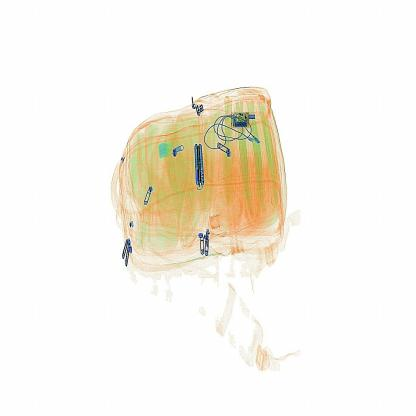scissors: (184, 141, 216, 202)
